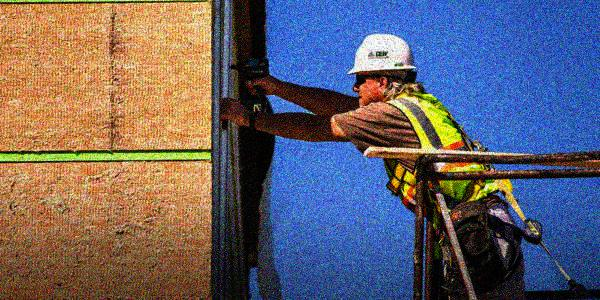helmet: (348, 32, 421, 109)
